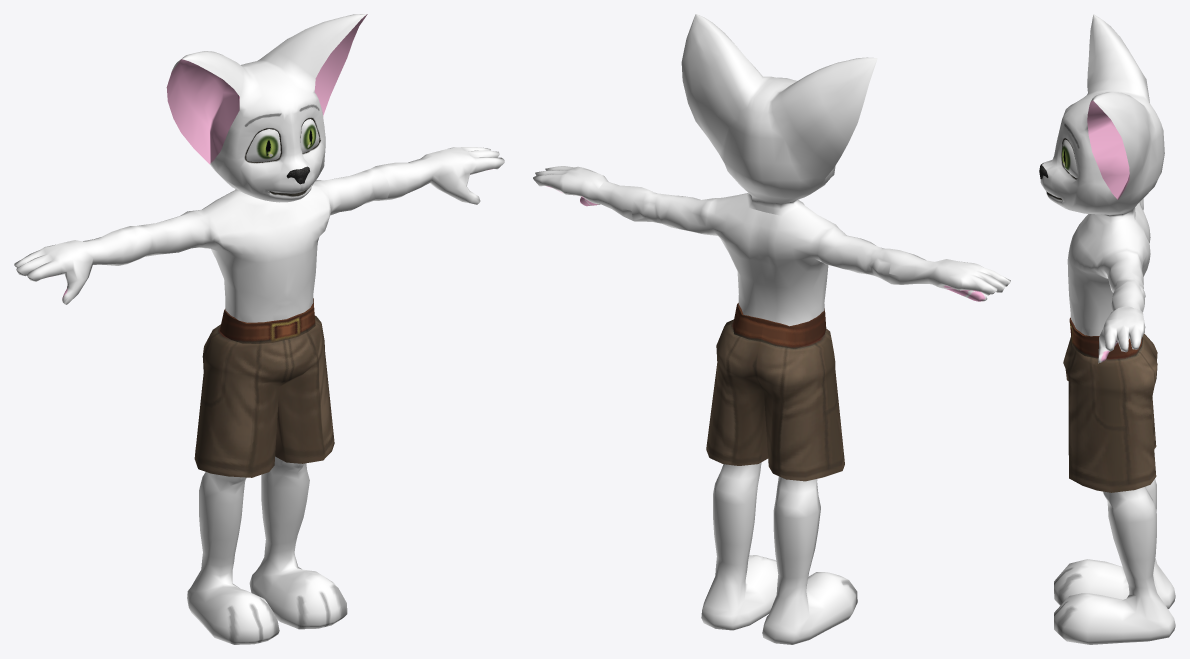
File: BetaTestKatzenMalha.fbx
The picture shows the model from 3 angles, left to right: view 1: azimuth 30°, elevation 25°; view 2: azimuth 150°, elevation 25°; view 3: azimuth 270°, elevation 25°; orthographic projection. The views are drawn at different scales.
Parts seen in each view (by area): view 1: polySurface13; view 2: polySurface13; view 3: polySurface13.
Boxes of the visible parts, bbox=[...] form: polySurface13: bbox=[14, 14, 504, 644]; polySurface13: bbox=[533, 14, 1010, 644]; polySurface13: bbox=[1039, 14, 1175, 644].
Size of the model in its own units: 87.75 by 102 by 22.5.
2 materials, 2 textured.
